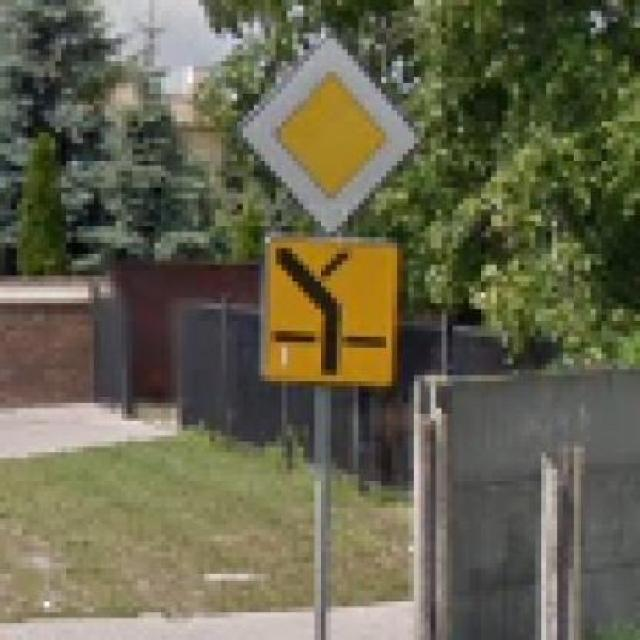Droga z pierwszenstwem: (235, 31, 422, 234)
